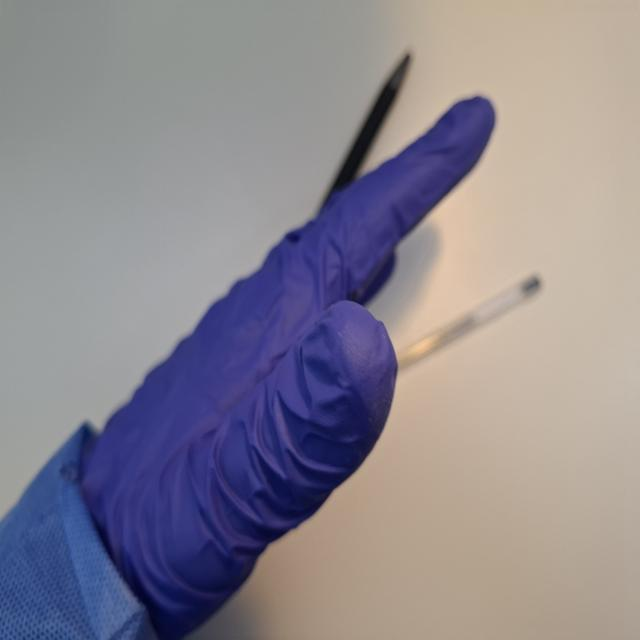glove_on: (70, 88, 502, 639)
